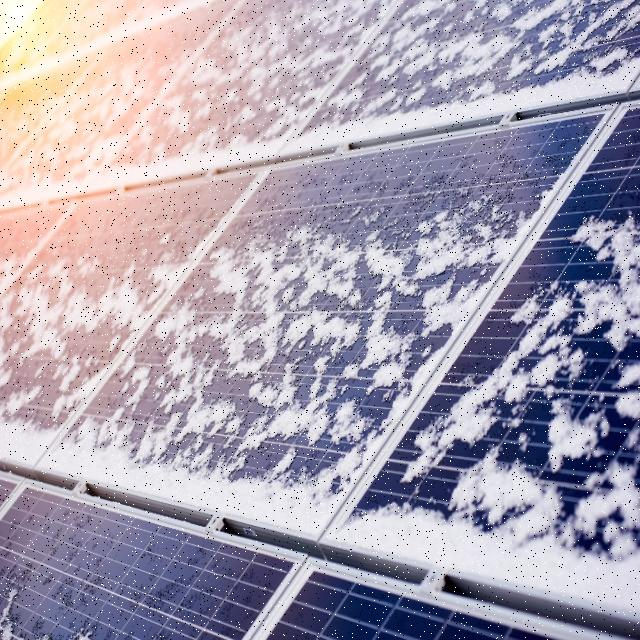snow covered: (60, 120, 634, 600), (317, 3, 638, 126)
